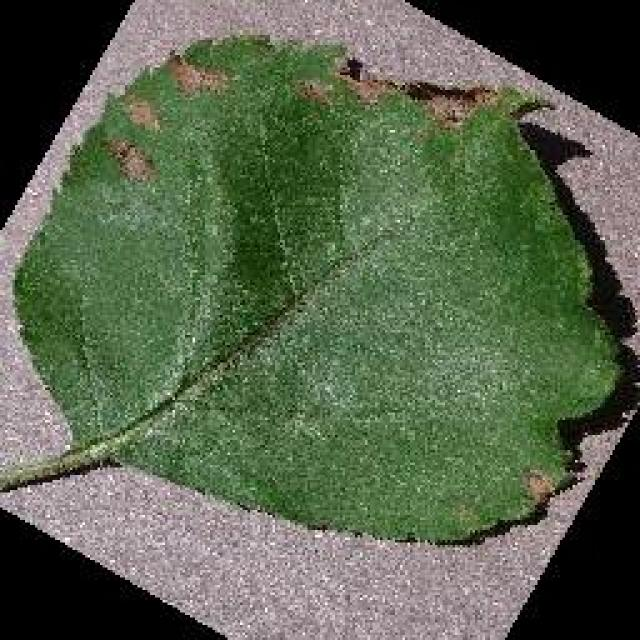apple black rot: (5, 30, 633, 548)
